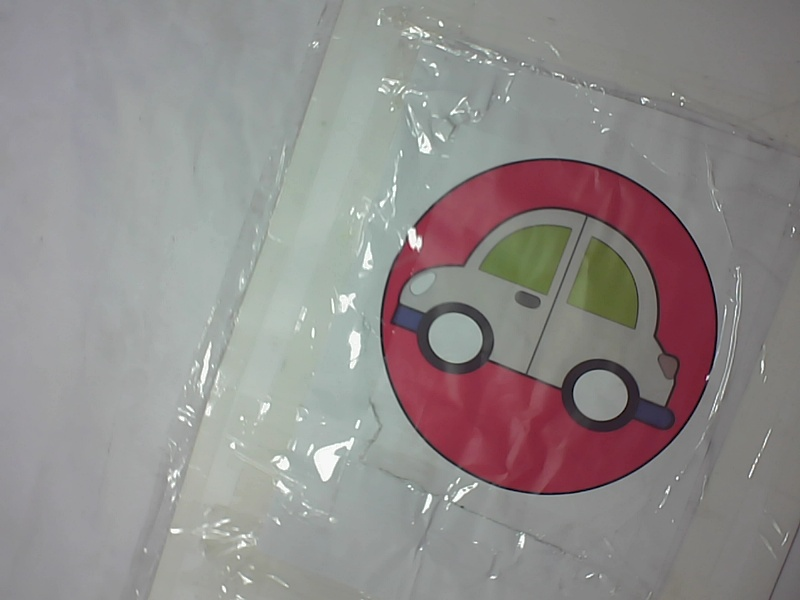areaC: (361, 145, 732, 501)
